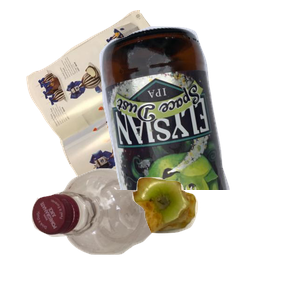glass: (97, 24, 300, 204)
paper: (24, 10, 235, 190)
plastic: (29, 166, 183, 300)
trash: (130, 175, 300, 300)
